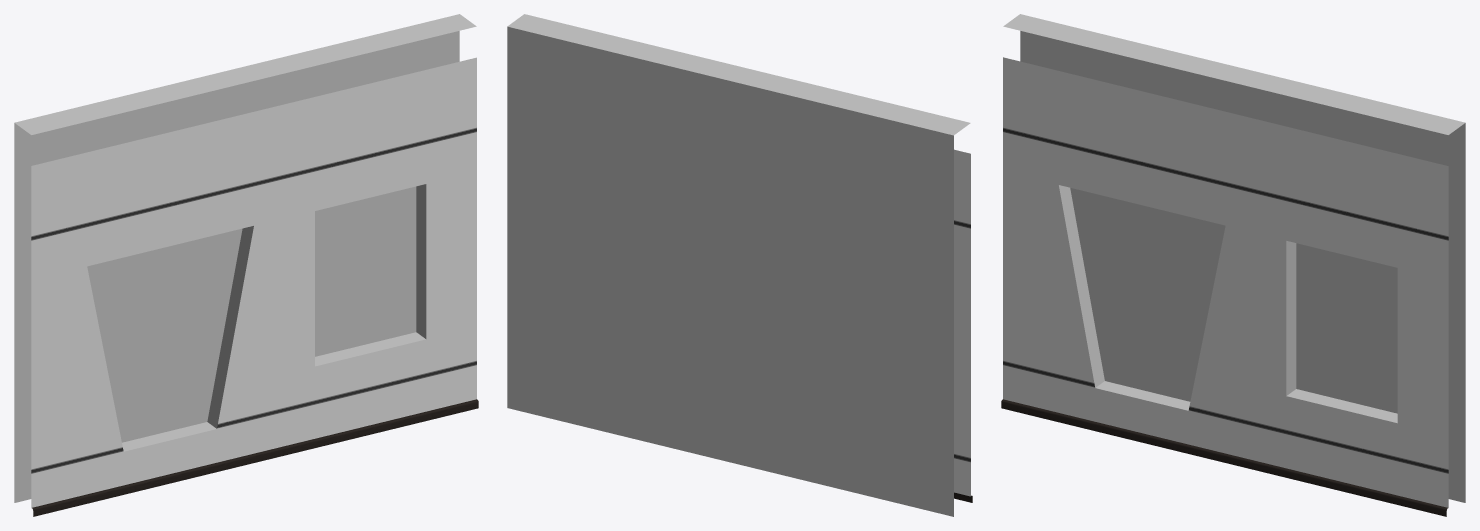
Rendered from Wall02.FBX.
3 views of the same model, side by side, from view 1: azimuth 30°, elevation 25°; view 2: azimuth 150°, elevation 25°; view 3: azimuth 330°, elevation 25° (orthographic).
Parts seen in each view (by area): view 1: Wall02; view 2: Wall02; view 3: Wall02.
Boxes of the visible parts, x1,y1,x2,y2 form: Wall02: [14, 14, 478, 516]; Wall02: [507, 14, 972, 516]; Wall02: [1001, 14, 1465, 516].
Bounding box in the file's own units: 6 × 4.9 × 0.44.
